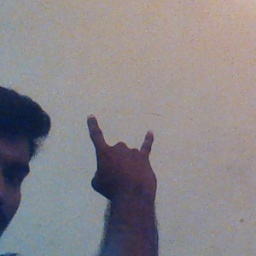V: (80, 110, 168, 206)
